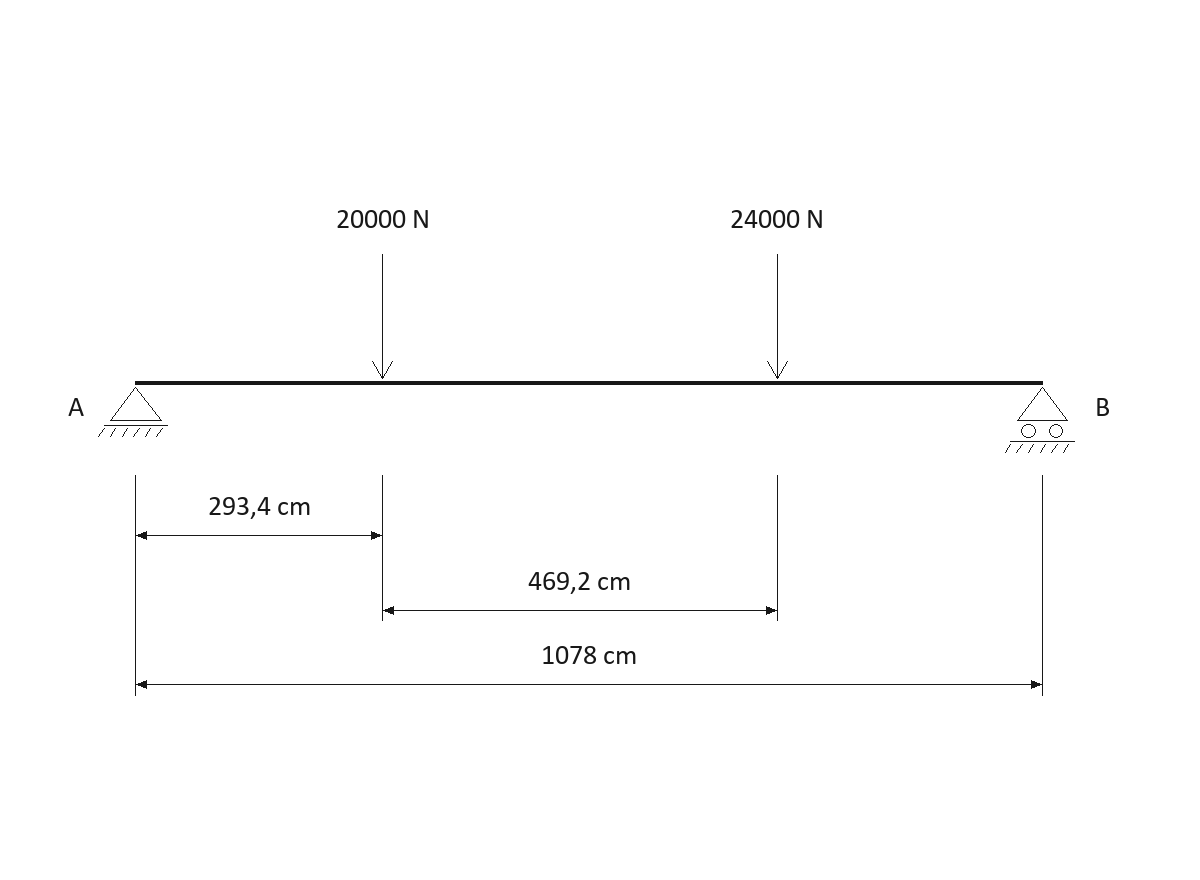pin_support: (98, 387, 168, 437)
point_load: (372, 254, 393, 379), (767, 254, 788, 379)
roller_support: (1005, 387, 1075, 453)
